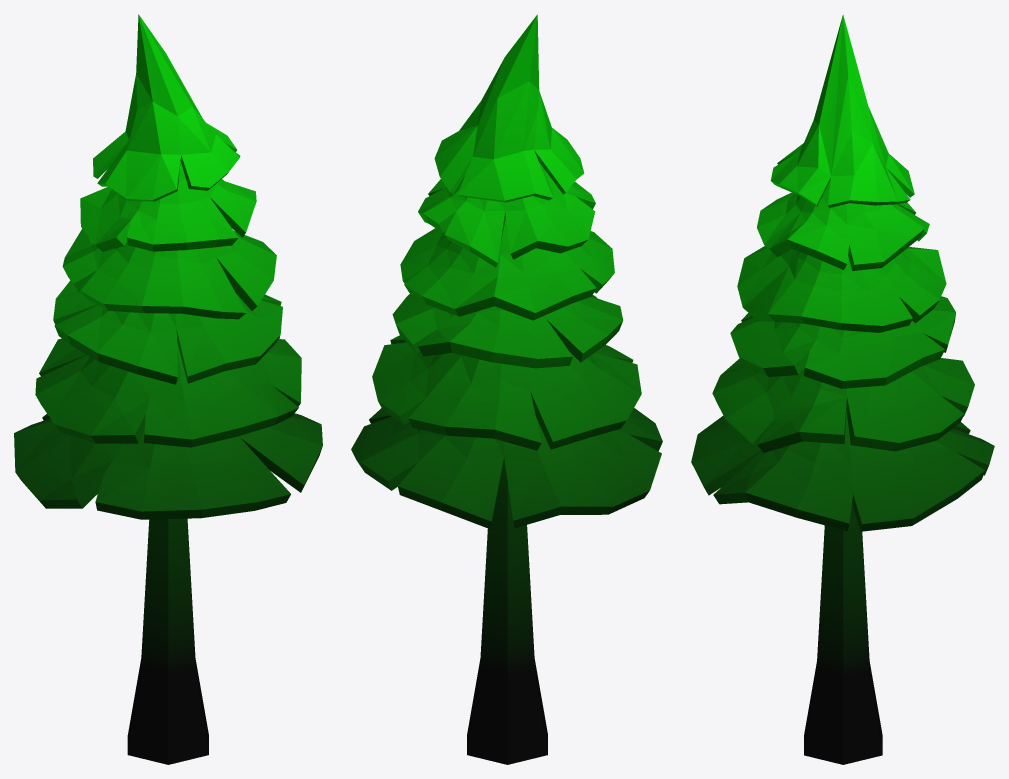
The model's file is SM_Tree_Pine_06.fbx.
The picture shows the model from 3 angles, left to right: view 1: azimuth 30°, elevation 25°; view 2: azimuth 150°, elevation 25°; view 3: azimuth 270°, elevation 25°; orthographic projection. The views are drawn at different scales.
Parts seen in each view (by area): view 1: SM_Tree_Pine_06_LOD0; view 2: SM_Tree_Pine_06_LOD0; view 3: SM_Tree_Pine_06_LOD0.
Part boxes in pixels (<box>): SM_Tree_Pine_06_LOD0: <box>14,14,322,764</box>; SM_Tree_Pine_06_LOD0: <box>351,14,662,764</box>; SM_Tree_Pine_06_LOD0: <box>691,14,994,764</box>.
Size of the model in its own units: 352 by 915 by 351.
